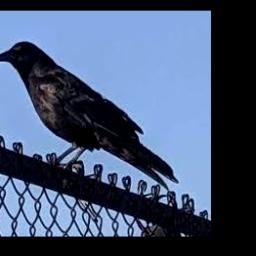Crow: (0, 41, 179, 192)
